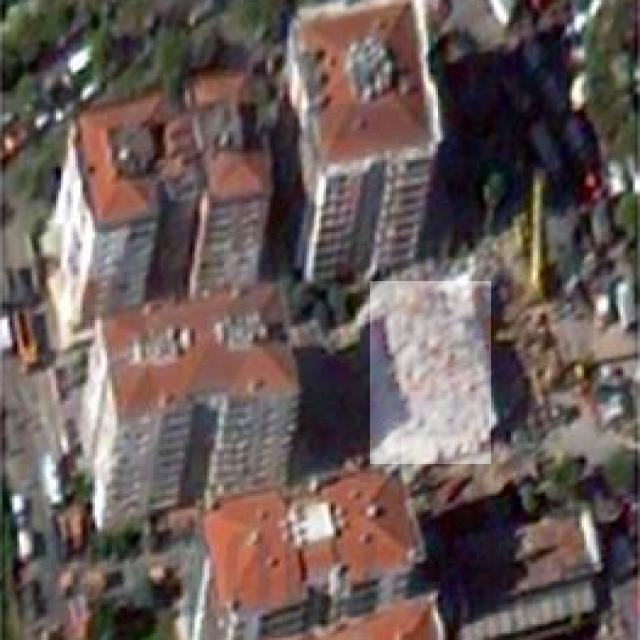Rubble: (370, 281, 491, 464)
